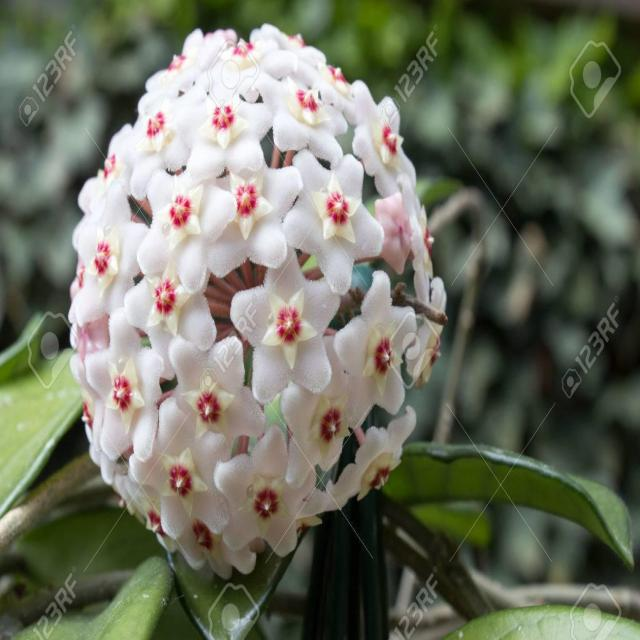organic waste: (76, 36, 448, 568)
